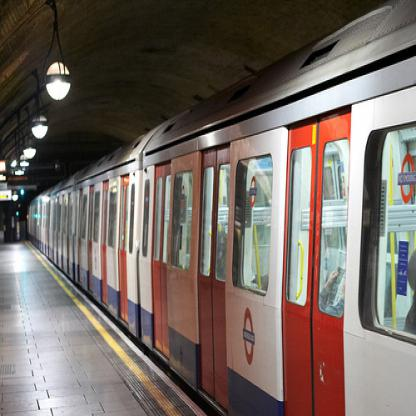train: (27, 1, 415, 415)
